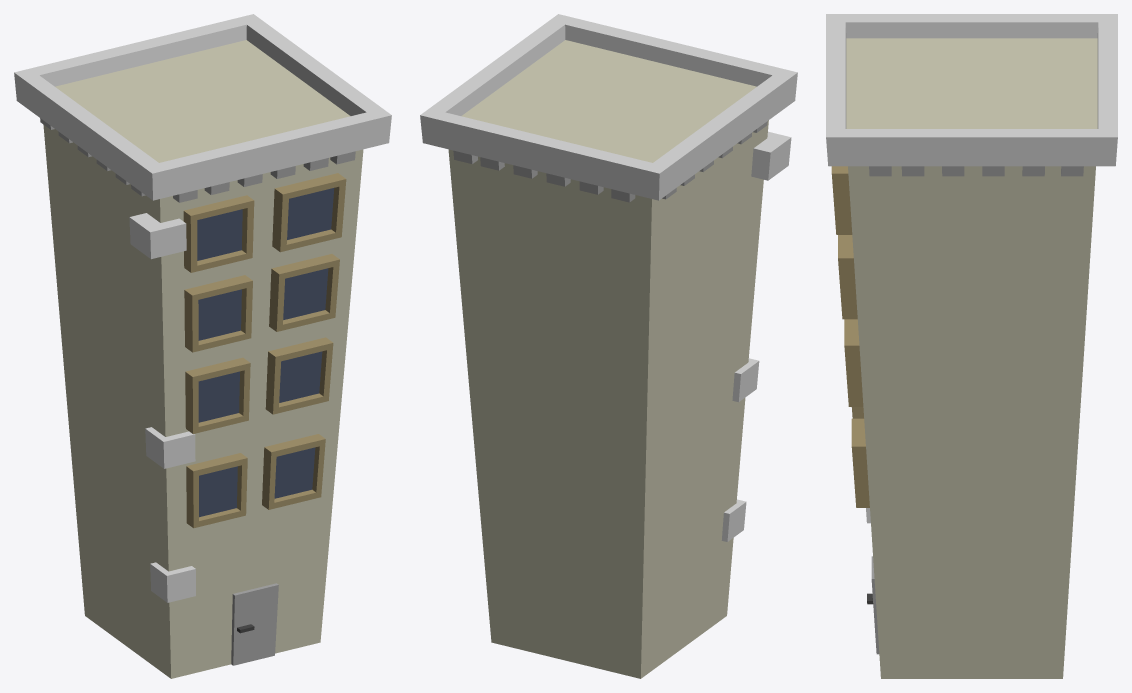
Rendered from building1.fbx.
3 renders of one model, left to right at view 1: azimuth 30°, elevation 25°; view 2: azimuth 150°, elevation 25°; view 3: azimuth 270°, elevation 25°, orthographic. The views are drawn at different scales.
Visible parts, largest first — view 1: Cube123; view 2: Cube123; view 3: Cube123.
Boxes of the visible parts, x1,y1,x2,y2 form: Cube123: [14, 14, 391, 678]; Cube123: [420, 14, 797, 678]; Cube123: [826, 14, 1117, 678].
Bounding box in the file's own units: 1785 × 3811 × 1785.
